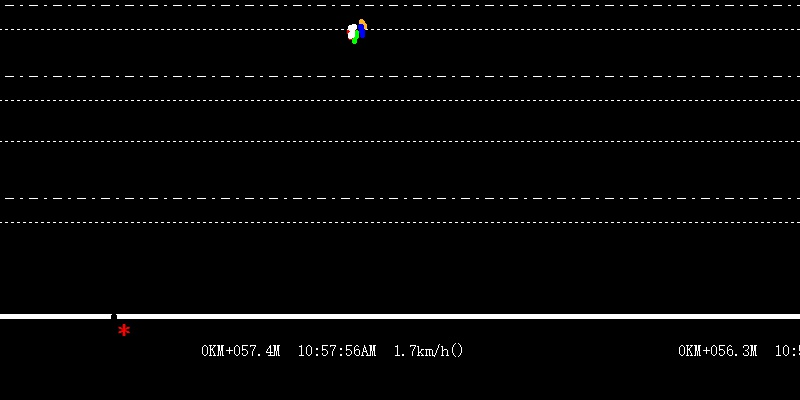face_2: (346, 19, 366, 46)
star: (116, 322, 132, 338)
